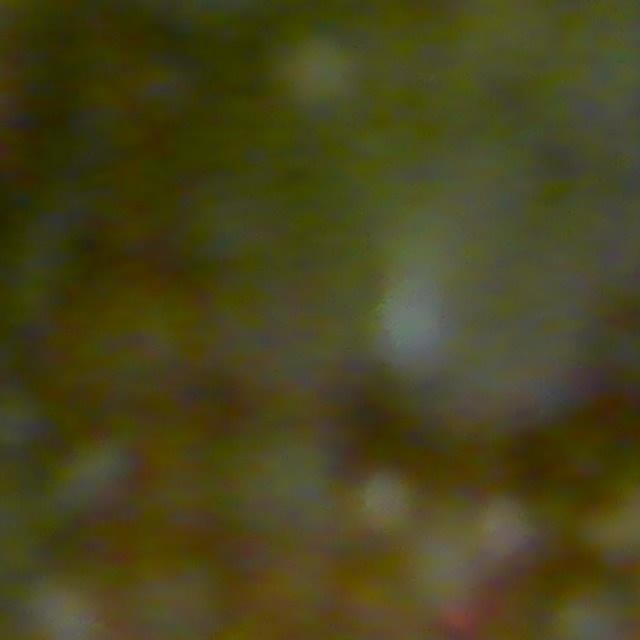SeaGrape: (129, 552, 232, 640), (52, 432, 142, 520), (347, 467, 423, 544), (27, 578, 115, 640), (544, 583, 636, 640), (0, 386, 54, 460)
